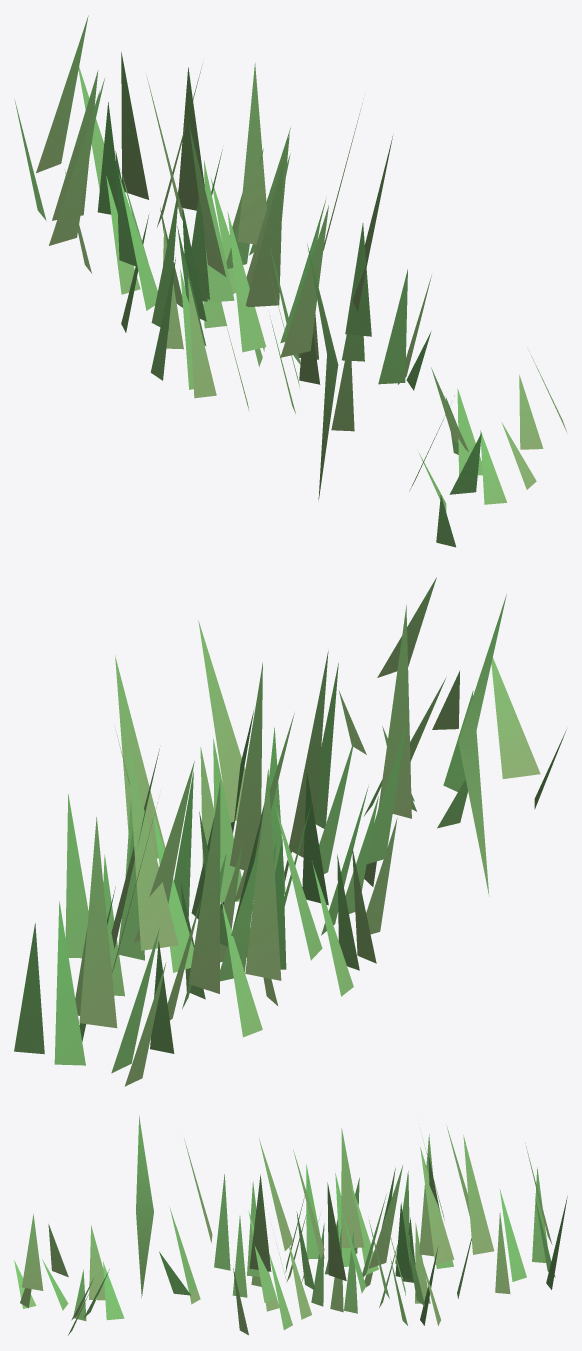
Rendered from grass_touffe_2.fbx.
3 views of the same model, one above another, from view 1: azimuth 30°, elevation 25°; view 2: azimuth 150°, elevation 25°; view 3: azimuth 270°, elevation 25° (orthographic). The views are drawn at different scales.
Visible parts, largest first — view 1: grass_touffe_2; view 2: grass_touffe_2; view 3: grass_touffe_2.
Boxes of the visible parts, bbox=[...] form: grass_touffe_2: bbox=[14, 15, 566, 547]; grass_touffe_2: bbox=[14, 577, 566, 1086]; grass_touffe_2: bbox=[14, 1116, 567, 1335].
Size of the model in its own units: 10.94 by 12.08 by 33.93.
